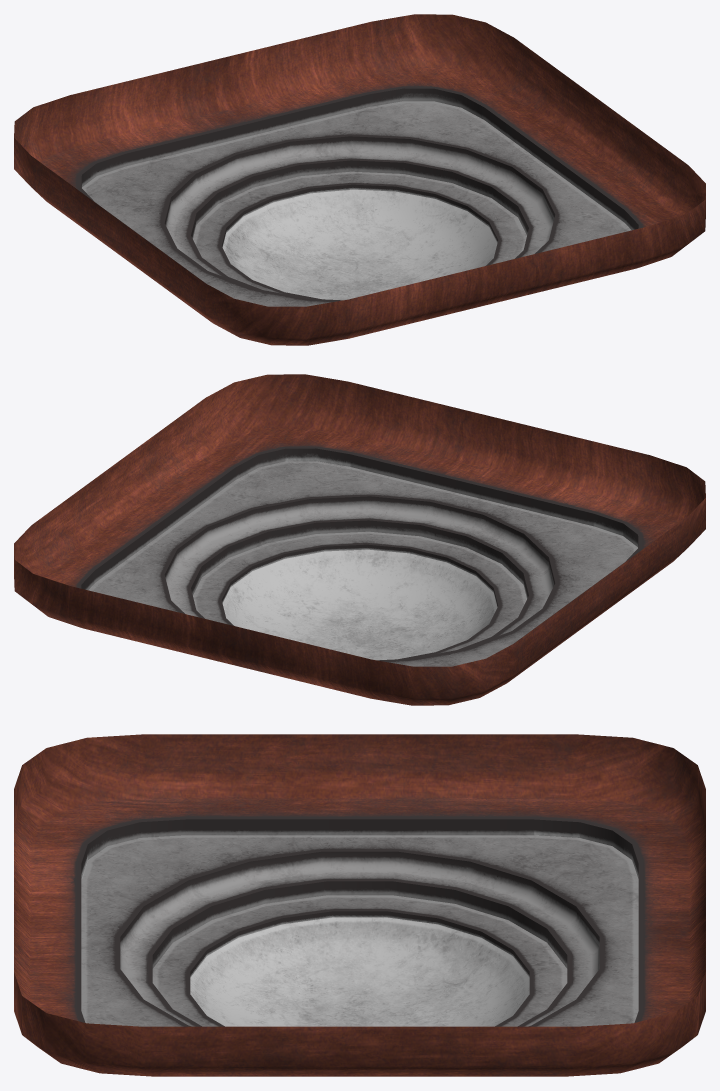
The model's file is SM_Angular_Lighting.fbx.
The picture shows the model from 3 angles, top to bottom: view 1: azimuth 30°, elevation 25°; view 2: azimuth 150°, elevation 25°; view 3: azimuth 270°, elevation 25°; orthographic projection. The views are drawn at different scales.
Parts seen in each view (by area): view 1: SM_Angular_Lighting; view 2: SM_Angular_Lighting; view 3: SM_Angular_Lighting.
Boxes of the visible parts, <box> form: SM_Angular_Lighting: <box>14,14,705,345</box>; SM_Angular_Lighting: <box>14,374,705,705</box>; SM_Angular_Lighting: <box>14,734,705,1076</box>.
Bounding box in the file's own units: 24.19 × 24.19 × 5.91.
1 material, 1 textured.
